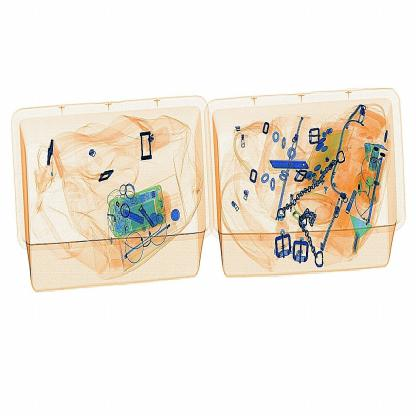pliers: (261, 150, 313, 177)
